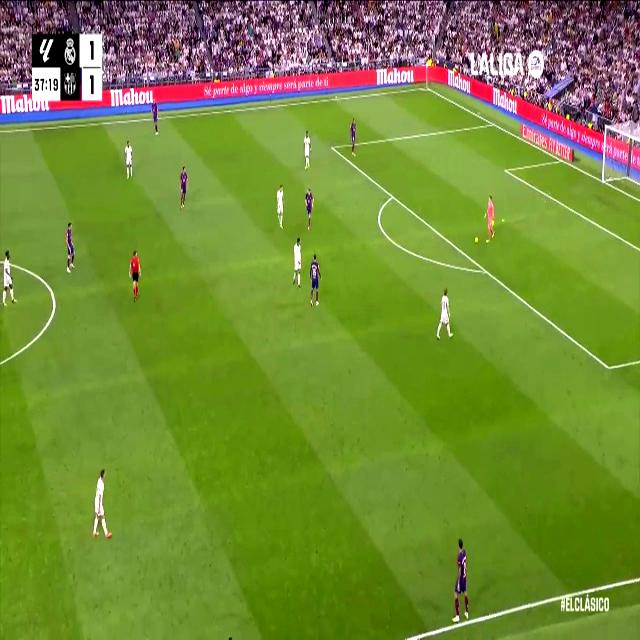bigarea_bottom_inner: (604, 355, 614, 379)
bigarea_top_inner: (330, 141, 335, 153)
bottom_arc_area_intersection: (481, 262, 489, 278)
corner: (423, 82, 430, 90)
smallarea_top_inner: (504, 165, 508, 175)
top_arc_area_intersection: (389, 188, 396, 202)
